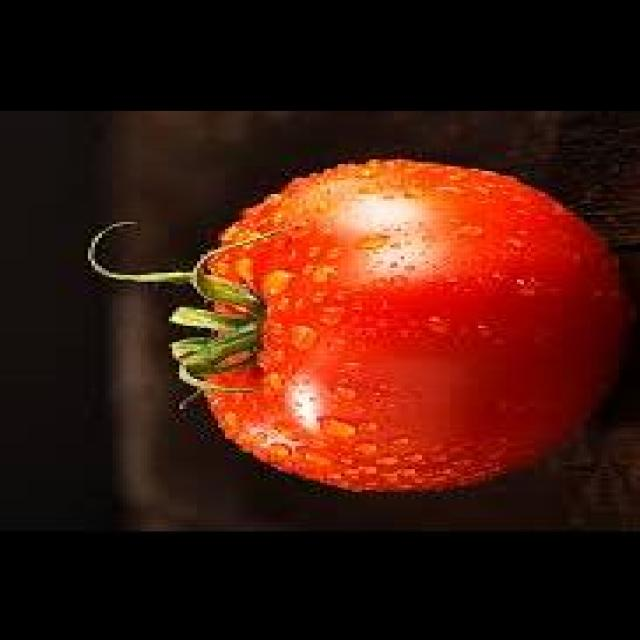Tomato: (206, 154, 616, 498)
